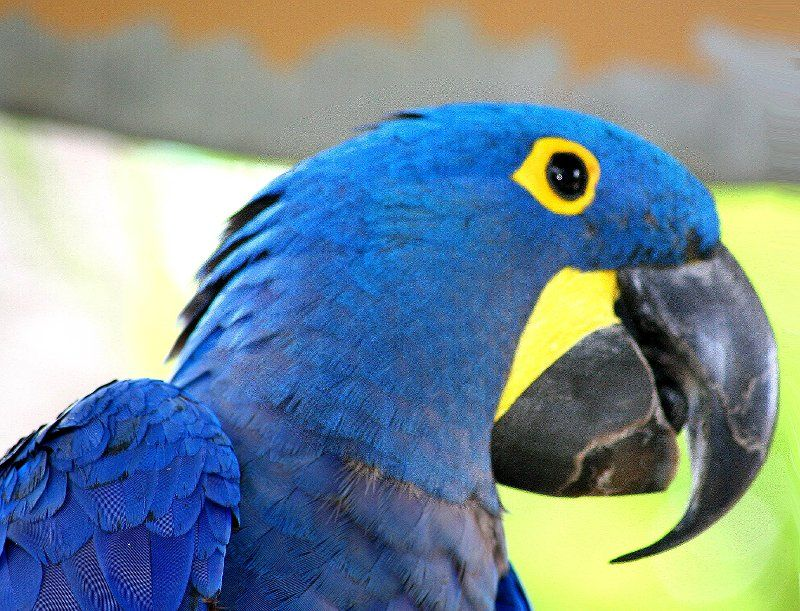guacamaya: (22, 102, 721, 606)
